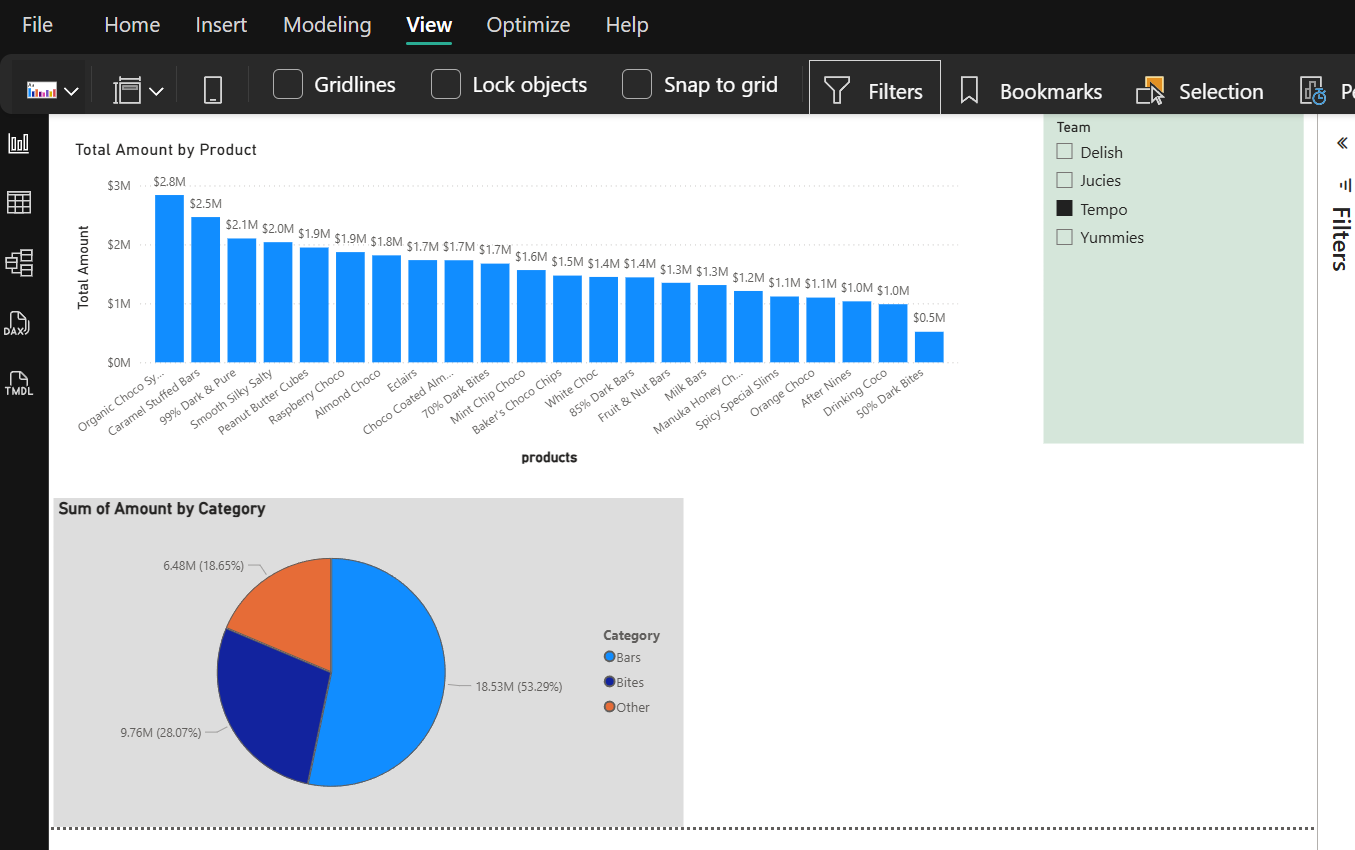

Layout of this report page (visuals, bound fields, positions):
{"tool":"powerbi","page":{"name":"Total amount","canvas":[1280,720],"ordinal":1},"visuals":[{"type":"clusteredColumnChart","fields":{"Y":["shipments.Total Amount"],"Category":["products.Product"]},"box":[20.8,26.5,901.4,332.6],"z":0},{"type":"pieChart","fields":{"Category":["products.Category"],"Y":["Sum(shipments.Amount)"]},"box":[4,388,636,332],"z":1000},{"type":"slicer","fields":{"Values":["people.Team"]},"box":[1003.5,0,262.7,332.6],"z":2000}]}

Visuals, with their boxes on the page's 1280x720 design canvas (x1, y1, x2, y2). These are canvas units, not pixel positions in the 1355x850 screenshot, which may show the page scaled, cropped or inside an application window:
clusteredColumnChart - shipments.Total Amount x products.Product: <box>21,26,922,359</box>
pieChart - products.Category x Sum(shipments.Amount): <box>4,388,640,720</box>
slicer - people.Team: <box>1004,0,1266,333</box>
